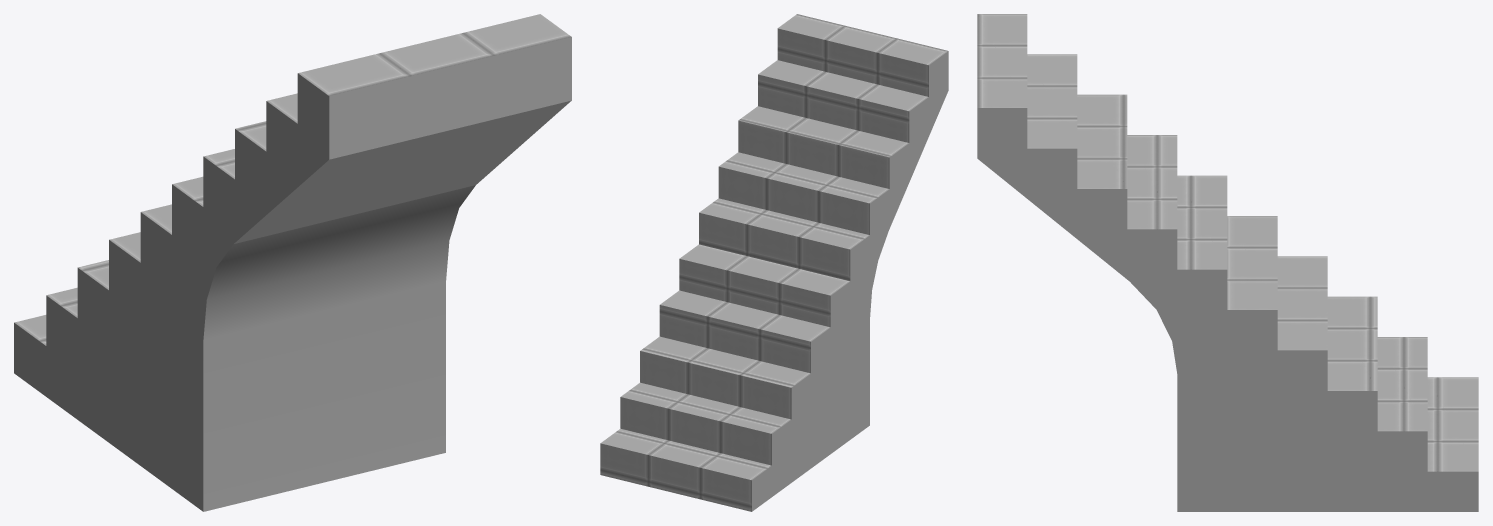
The model's file is Stair1.fbx.
The picture shows the model from 3 angles, left to right: view 1: azimuth 30°, elevation 25°; view 2: azimuth 150°, elevation 25°; view 3: azimuth 270°, elevation 25°; orthographic projection. The views are drawn at different scales.
Parts seen in each view (by area): view 1: Stair1; view 2: Stair1; view 3: Stair1.
Part boxes in pixels (box(x1,y1,x2,y2)): Stair1: box(14, 14, 571, 511); Stair1: box(600, 14, 948, 511); Stair1: box(977, 14, 1478, 511).
Size of the model in its own units: 200 by 400 by 450.
